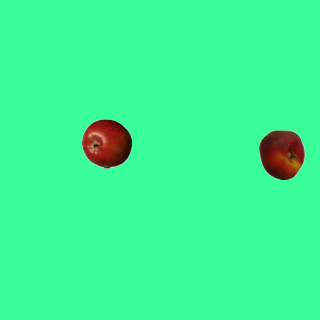Apple Braeburn: (81, 118, 131, 168)
Nectarine Flat: (256, 129, 306, 179)
